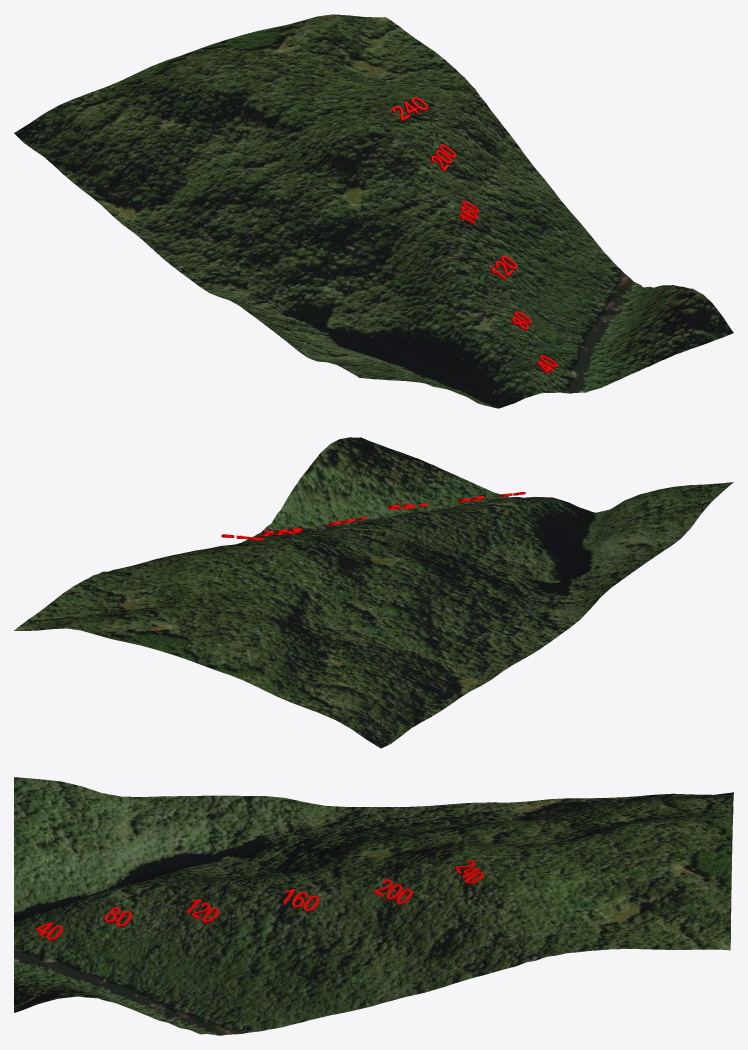
File: SaoJoseAusentes1Nc1.glb
3 renders of one model, top to bottom at view 1: azimuth 30°, elevation 25°; view 2: azimuth 150°, elevation 25°; view 3: azimuth 270°, elevation 25°, orthographic. The views are drawn at different scales.
Parts seen in each view (by area): view 1: root, object 2; view 2: root, object 2; view 3: root, object 2.
Part boxes in pixels (<box>): root: <box>14,14,733,408</box>; object 2: <box>391,97,557,373</box>; root: <box>14,437,733,748</box>; object 2: <box>221,492,525,540</box>; root: <box>14,777,733,1035</box>; object 2: <box>36,860,483,940</box>.
Bounding box in the file's own units: 917 × 271 × 1485.
Materials: 2 (1 with a texture image).
